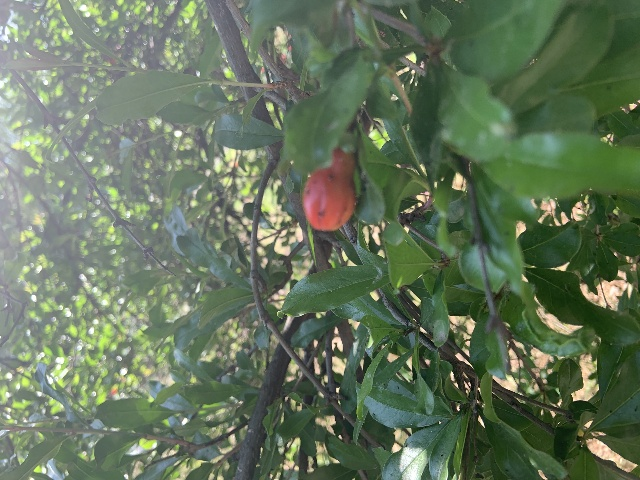bud: (302, 147, 356, 232)
